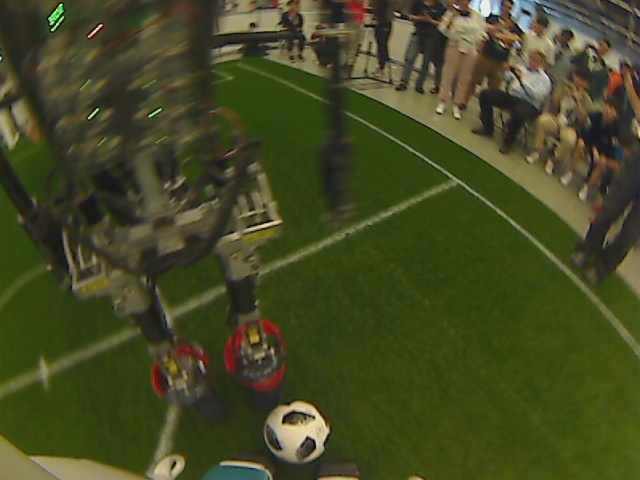ball: (263, 401, 330, 464)
